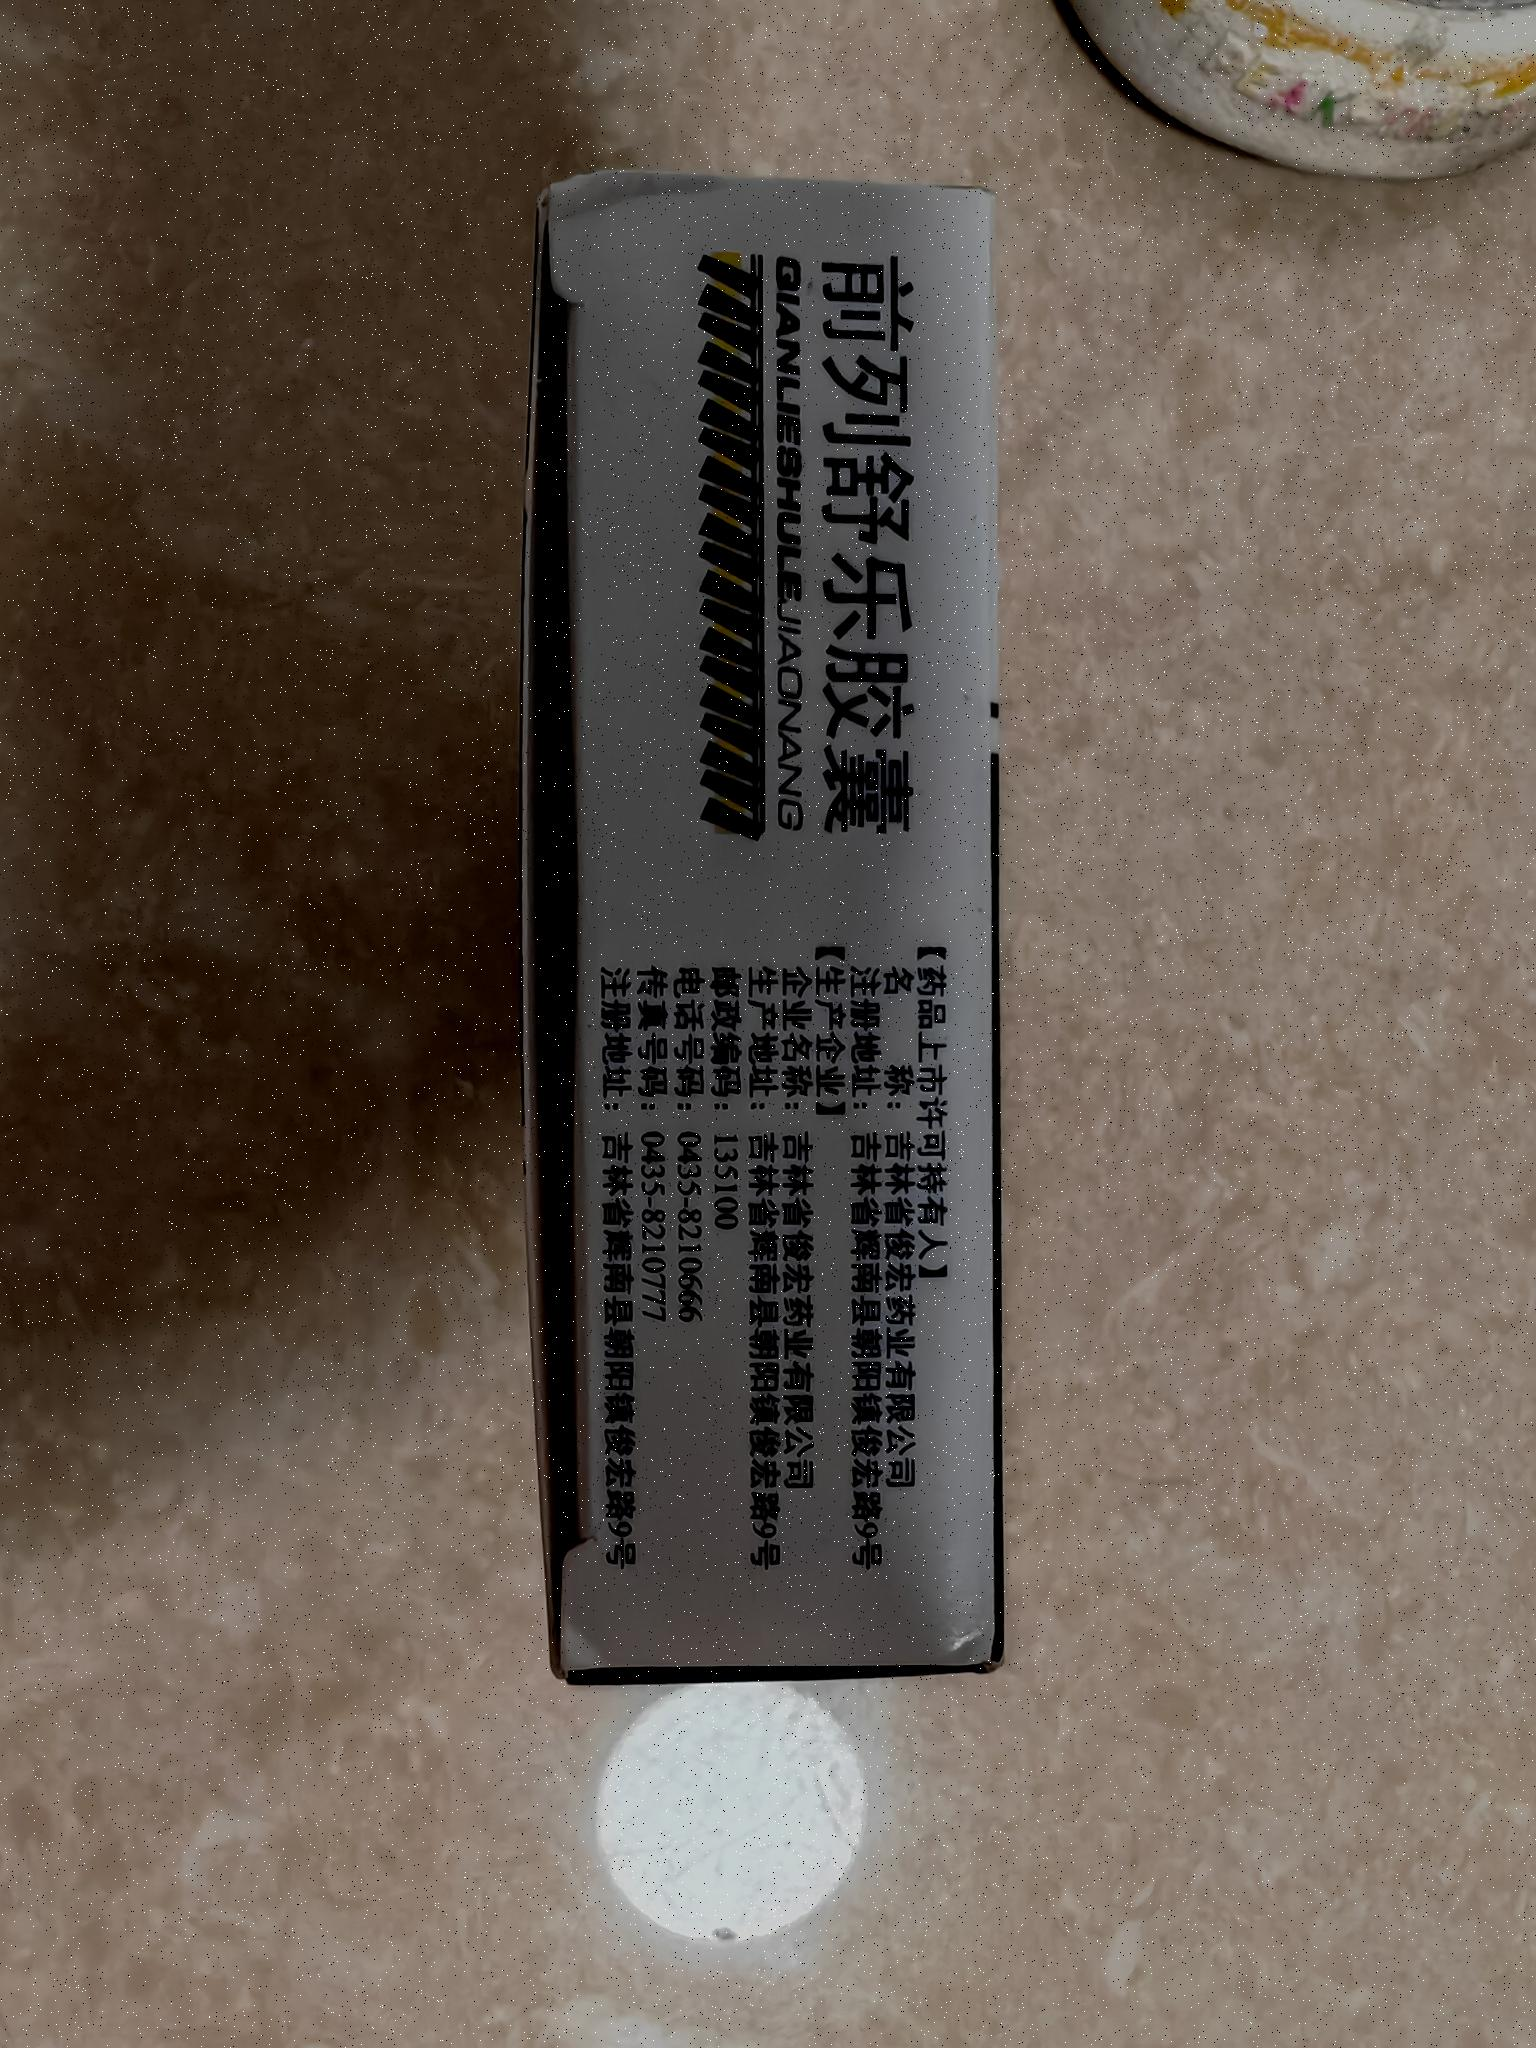Medicine2: (500, 154, 1038, 1710)
